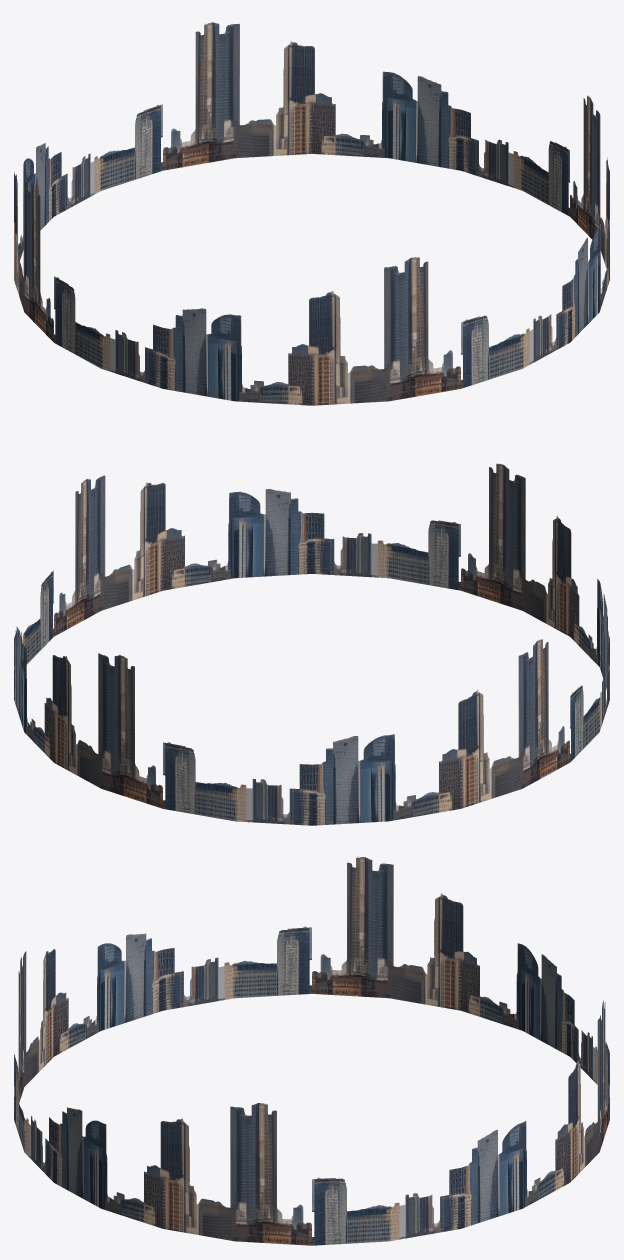
Rendered from City.fbx.
3 views of the same model, one above another, from view 1: azimuth 30°, elevation 25°; view 2: azimuth 150°, elevation 25°; view 3: azimuth 270°, elevation 25° (orthographic).
Parts seen in each view (by area): view 1: City; view 2: City; view 3: City.
Part boxes in pixels (x1,y1,x2,y2): City: (14, 22, 609, 405); City: (14, 463, 609, 825); City: (14, 856, 609, 1245).
Size of the model in its own units: 96.65 by 25 by 96.65.
